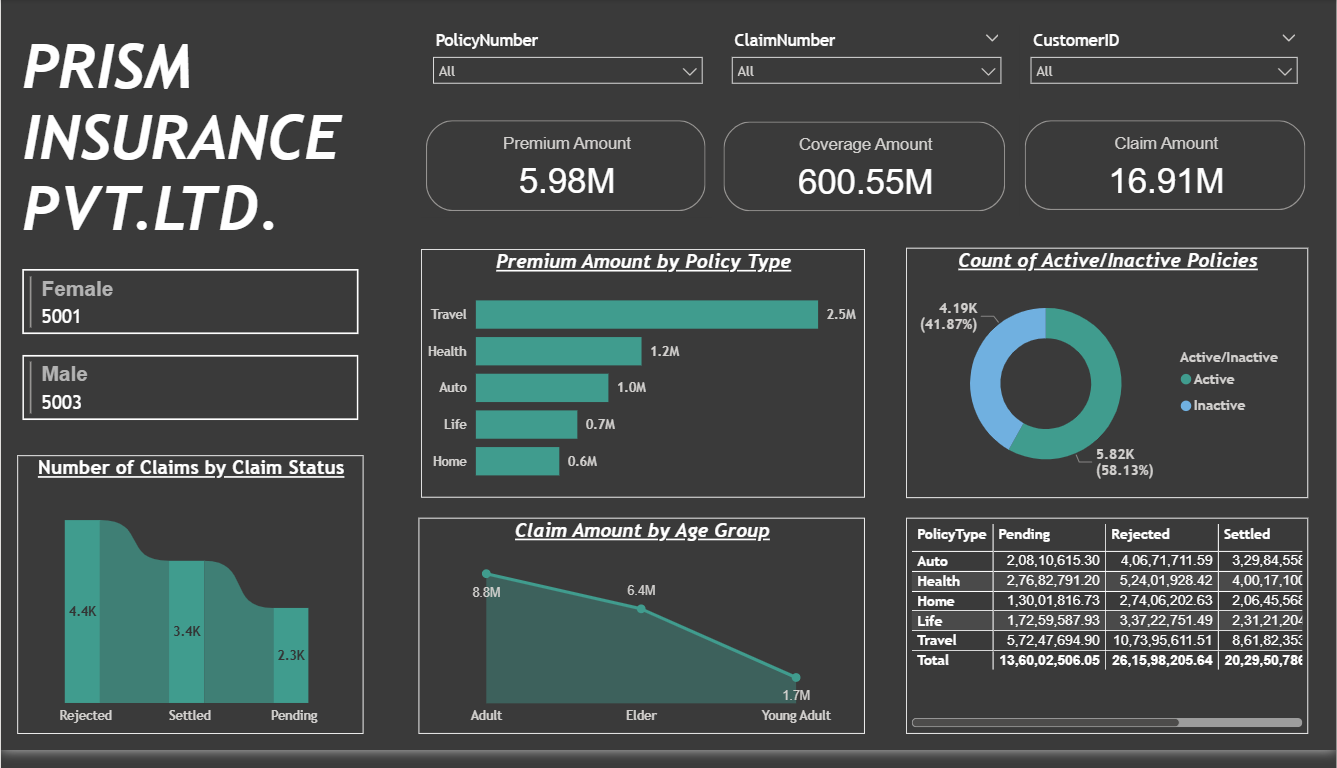

This screenshot's page, from the dashboard's own definition file:
{"tool":"powerbi","page":{"name":"Page 1","canvas":[1280,720],"ordinal":0},"visuals":[{"type":"slicer","fields":{"Values":["InsuranceData.PolicyNumber"]},"box":[403.3,25.6,278.9,70],"z":0},{"type":"slicer","fields":{"Values":["InsuranceData.ClaimNumber"]},"box":[690,25.6,278.9,70],"z":1000},{"type":"slicer","fields":{"Values":["InsuranceData.CustomerID"]},"box":[976.7,25.6,276.7,70],"z":2000},{"type":"textbox","box":[15.6,25.6,341.1,214.4],"z":3000},{"type":"cardVisual","fields":{"Data":["Sum(InsuranceData.PremiumAmount)"]},"box":[403.2,111.2,278.5,97.7],"z":4000},{"type":"cardVisual","fields":{"Data":["Sum(InsuranceData.CoverageAmount)"]},"box":[688,112.2,280.6,96.7],"z":5000},{"type":"cardVisual","fields":{"Data":["Sum(InsuranceData.ClaimAmount)"]},"box":[976.9,111.2,279.6,96.7],"z":6000},{"type":"multiRowCard","fields":{"Values":["InsuranceData.Gender","CountNonNull(InsuranceData.Gender)"]},"box":[15.6,254.1,332,183.4],"z":7000},{"type":"ribbonChart","title":"Number of Claims by Claim Status","fields":{"Category":["InsuranceData.ClaimStatus"],"Y":["CountNonNull(InsuranceData.ClaimStatus)"]},"box":[15.9,437.2,331.8,266.9],"z":8000},{"type":"barChart","title":"Premium Amount by Policy Type","fields":{"Category":["InsuranceData.PolicyType"],"Y":["Sum(InsuranceData.PremiumAmount)"]},"box":[402.7,239.7,425.5,238.5],"z":9000},{"type":"lineChart","title":"Claim Amount by Age Group","fields":{"Category":["InsuranceData.Age Group"],"Y":["Sum(InsuranceData.ClaimAmount)"]},"box":[400.3,497.4,427.9,207.3],"z":10000},{"type":"donutChart","title":"Count of  Active/Inactive Policies","fields":{"Category":["InsuranceData.Active/Inactive"],"Y":["CountNonNull(InsuranceData.Active/Inactive)"]},"box":[867.7,238.5,385.9,239.7],"z":11000},{"type":"pivotTable","fields":{"Rows":["InsuranceData.PolicyType"],"Values":["Sum(InsuranceData.CoverageAmount)"],"Columns":["InsuranceData.ClaimStatus"]},"box":[867.7,497.4,385.9,207.3],"z":12000}]}

Visuals, with their boxes in screenshot pixels (x1, y1, x2, y2), scaled from the page's 1280x720 canvas onto the 1337x768 screenshot:
slicer - InsuranceData.PolicyNumber: bbox=(421, 27, 713, 102)
slicer - InsuranceData.ClaimNumber: bbox=(721, 27, 1012, 102)
slicer - InsuranceData.CustomerID: bbox=(1020, 27, 1309, 102)
textbox: bbox=(16, 27, 373, 256)
cardVisual - Sum(InsuranceData.PremiumAmount): bbox=(421, 119, 712, 223)
cardVisual - Sum(InsuranceData.CoverageAmount): bbox=(719, 120, 1012, 223)
cardVisual - Sum(InsuranceData.ClaimAmount): bbox=(1020, 119, 1312, 222)
multiRowCard - InsuranceData.Gender x CountNonNull(InsuranceData.Gender): bbox=(16, 271, 363, 467)
"Number of Claims by Claim Status" ribbonChart: bbox=(17, 466, 363, 751)
"Premium Amount by Policy Type" barChart: bbox=(421, 256, 865, 510)
"Claim Amount by Age Group" lineChart: bbox=(418, 531, 865, 752)
"Count of  Active/Inactive Policies" donutChart: bbox=(906, 254, 1309, 510)
pivotTable - InsuranceData.PolicyType x Sum(InsuranceData.CoverageAmount): bbox=(906, 531, 1309, 752)
